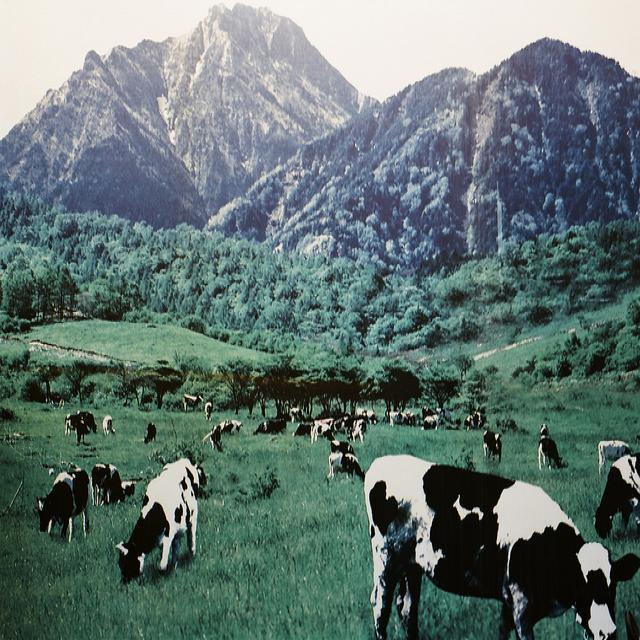cow: (42, 388, 550, 499), (361, 452, 636, 633), (113, 456, 199, 582), (590, 454, 639, 540), (36, 468, 89, 542), (90, 462, 125, 506), (325, 449, 364, 482), (596, 439, 631, 474), (537, 436, 561, 469), (481, 428, 501, 463), (345, 414, 365, 441), (75, 408, 96, 432), (329, 437, 354, 457), (63, 412, 81, 434)
